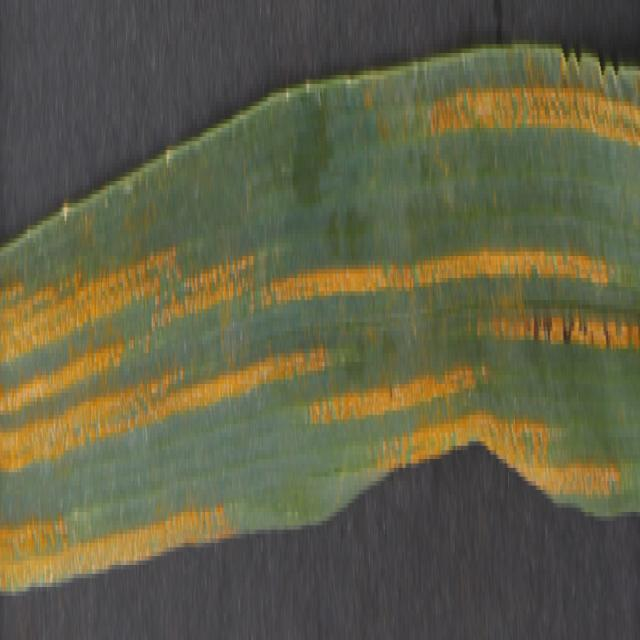leaf rust: (1, 36, 638, 600)
